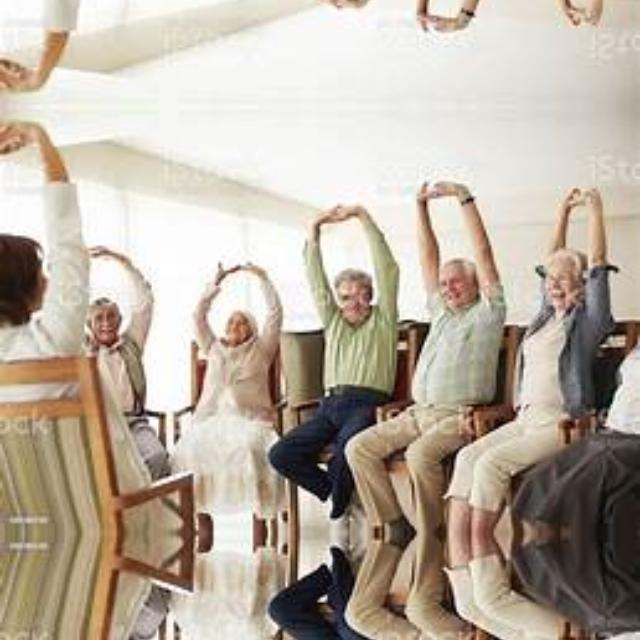person: (164, 269, 296, 423), (290, 229, 402, 383), (418, 247, 520, 369), (542, 229, 594, 369), (86, 288, 146, 376)
